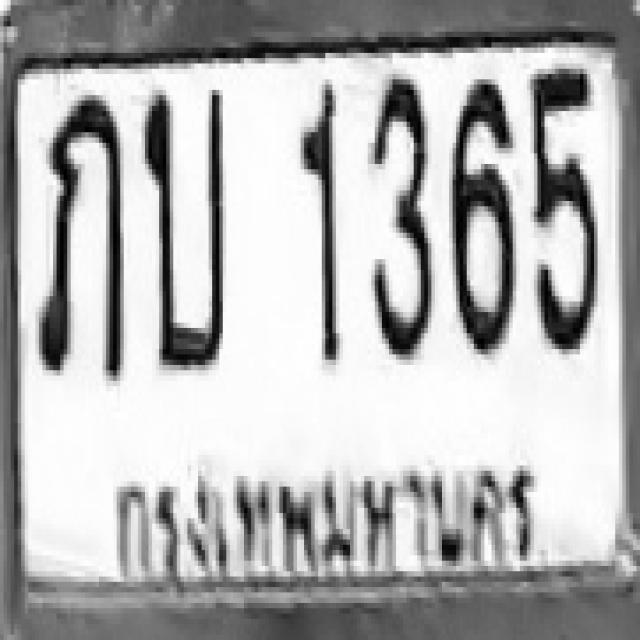1: (297, 82, 339, 368)
3: (366, 74, 433, 360)
35BorBaiMai: (140, 85, 224, 370)
41PhorSamPhao: (32, 90, 124, 375)
5: (529, 66, 592, 352)
6: (449, 74, 513, 354)
Bangkok: (108, 451, 552, 586)
